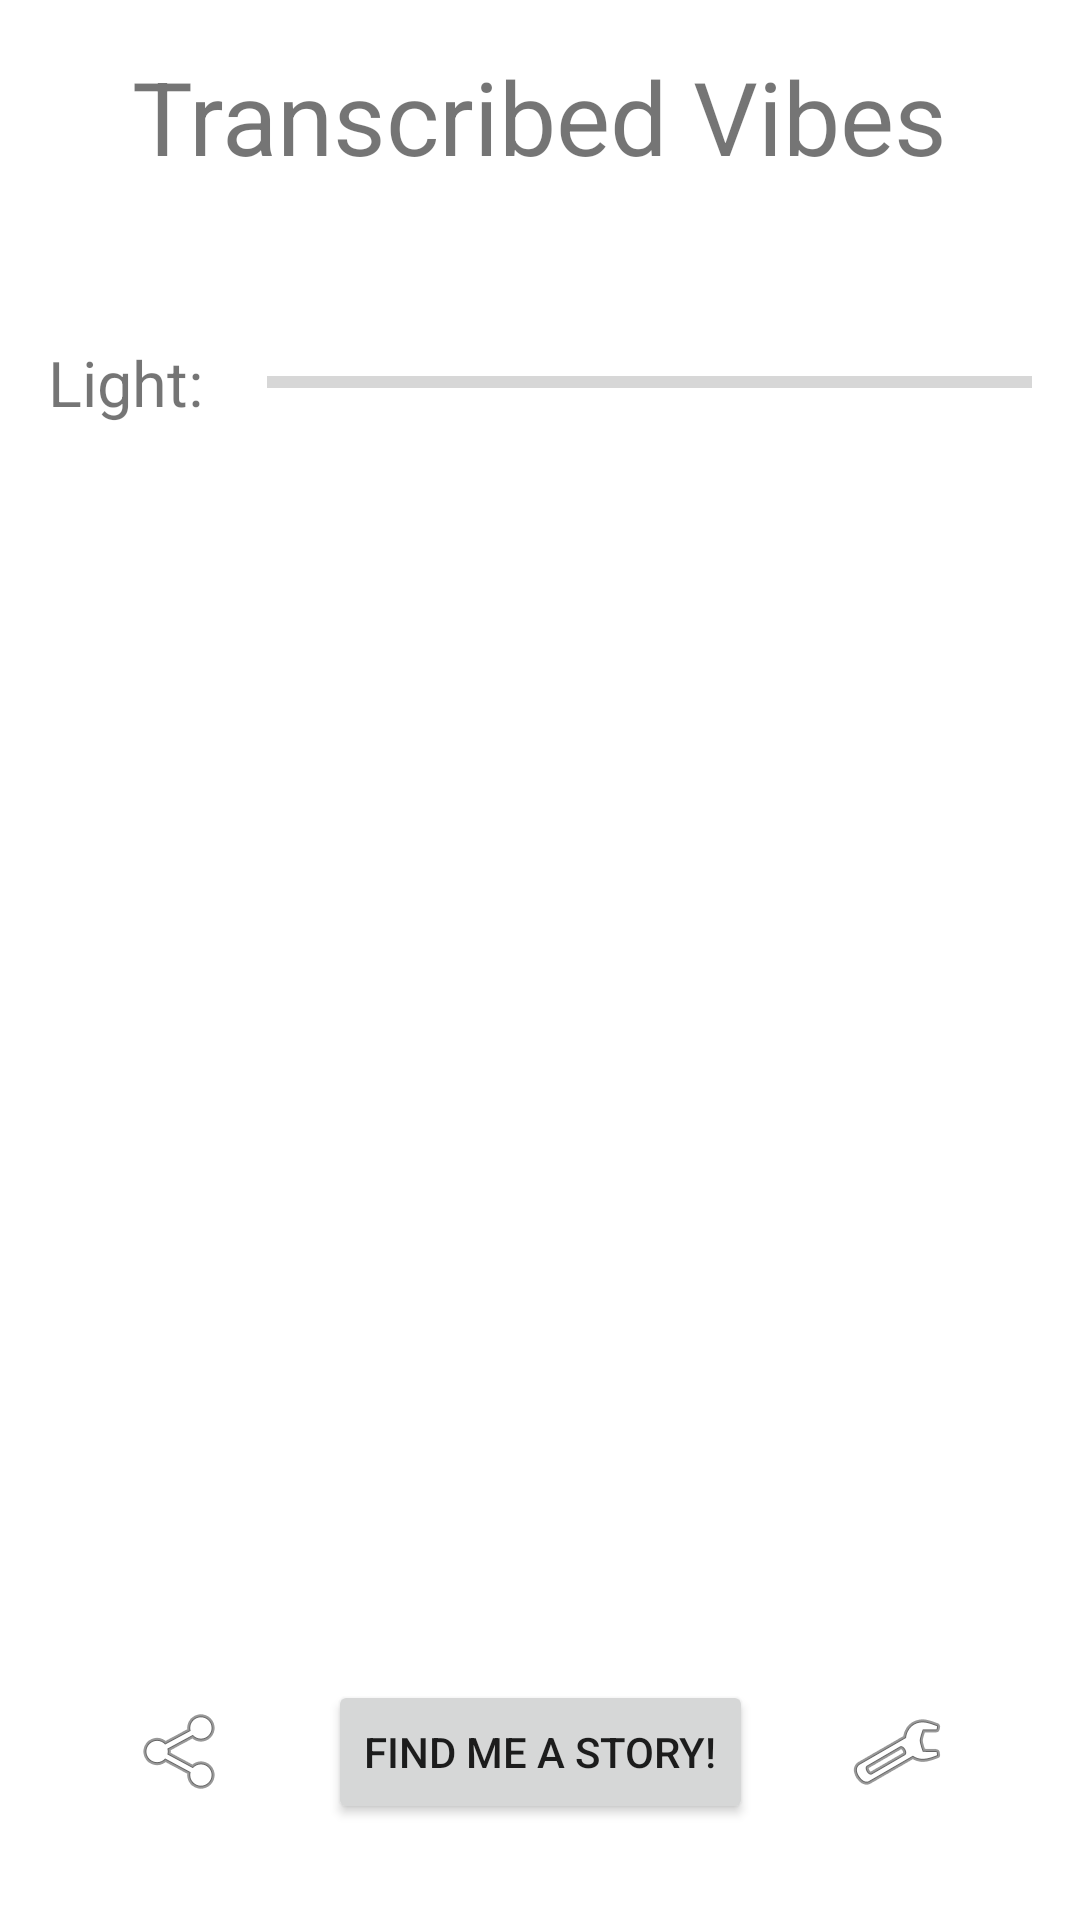

Icons on this 1080px×1920px Android screen, each with its box as (x1, y1, x2, y2):
preferences: (854, 1719, 940, 1785)
share: (143, 1714, 215, 1789)
